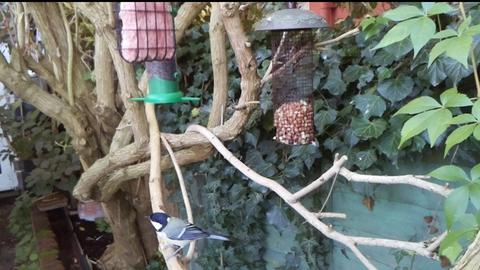great tit: (143, 212, 231, 262)
